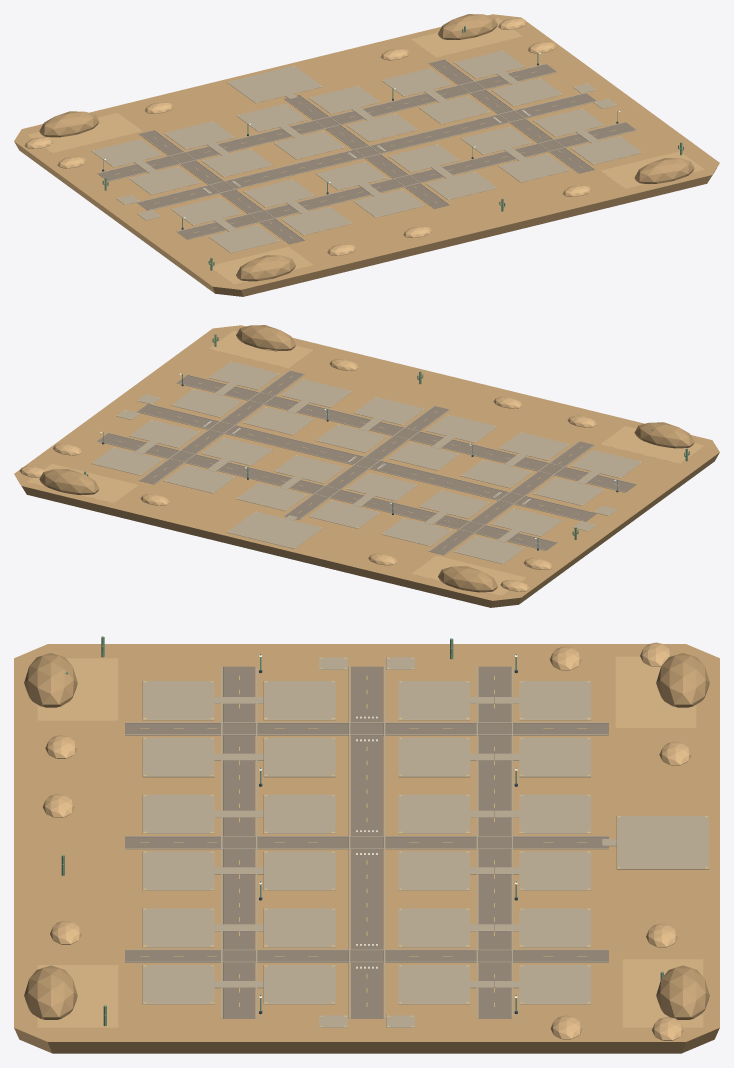
Rendered from ground.glb.
3 views of the same model, one above another, from view 1: azimuth 30°, elevation 25°; view 2: azimuth 150°, elevation 25°; view 3: azimuth 270°, elevation 25° (orthographic). The views are drawn at different scales.
Visible parts, largest first — view 1: planet_desert__Terrain, planet_desert__Roads, planet_desert__Decoration; view 2: planet_desert__Terrain, planet_desert__Roads, planet_desert__Decoration; view 3: planet_desert__Terrain, planet_desert__Roads, planet_desert__Decoration.
Boxes of the visible parts, box(x1,y1,x2,y2) form: planet_desert__Terrain: box(14, 14, 719, 296); planet_desert__Roads: box(91, 50, 642, 253); planet_desert__Decoration: box(24, 14, 694, 281); planet_desert__Terrain: box(14, 325, 719, 607); planet_desert__Roads: box(91, 361, 642, 564); planet_desert__Decoration: box(19, 325, 694, 592); planet_desert__Terrain: box(14, 644, 719, 1053); planet_desert__Roads: box(125, 657, 708, 1027); planet_desert__Decoration: box(24, 636, 709, 1040).
Bounding box in the file's own units: 140 × 6.8 × 105.
